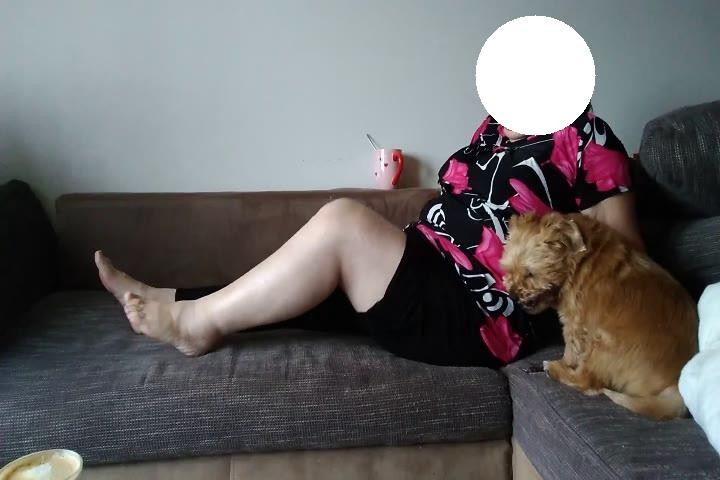lowerbody: (90, 191, 512, 372)
